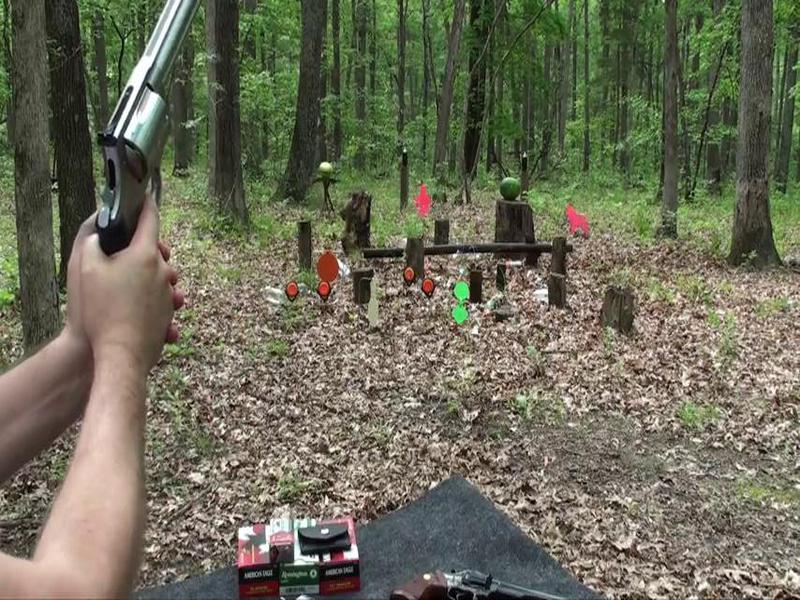Revolver: (81, 1, 217, 288)
